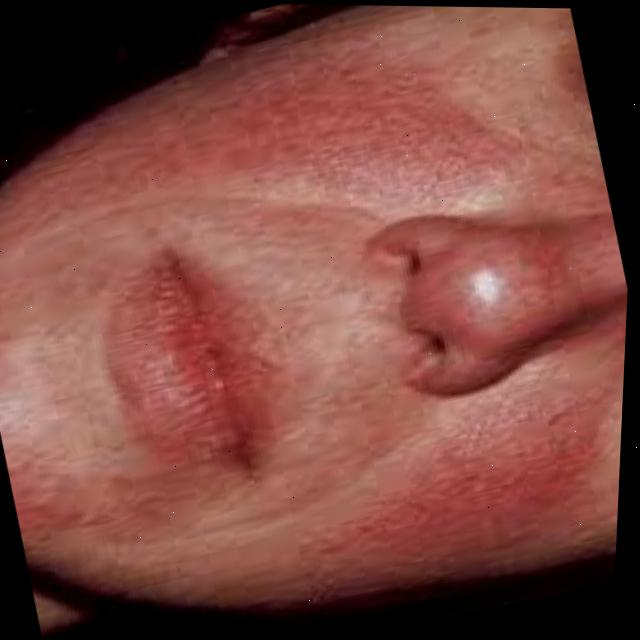Rosacea: (268, 389, 623, 620), (145, 2, 500, 206)
